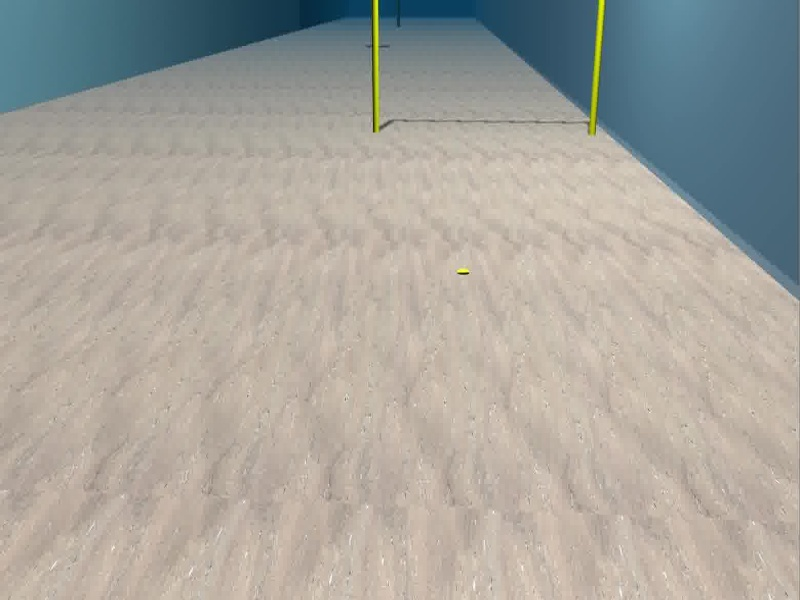gate: (368, 1, 604, 134)
